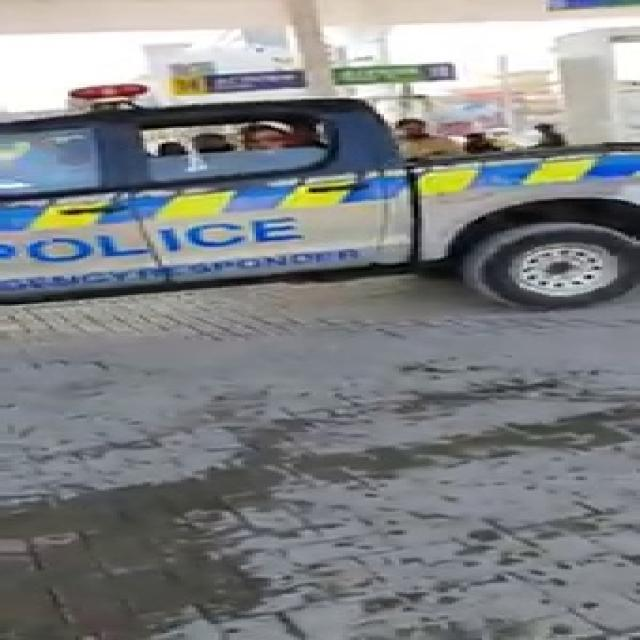police: (0, 20, 640, 304)
